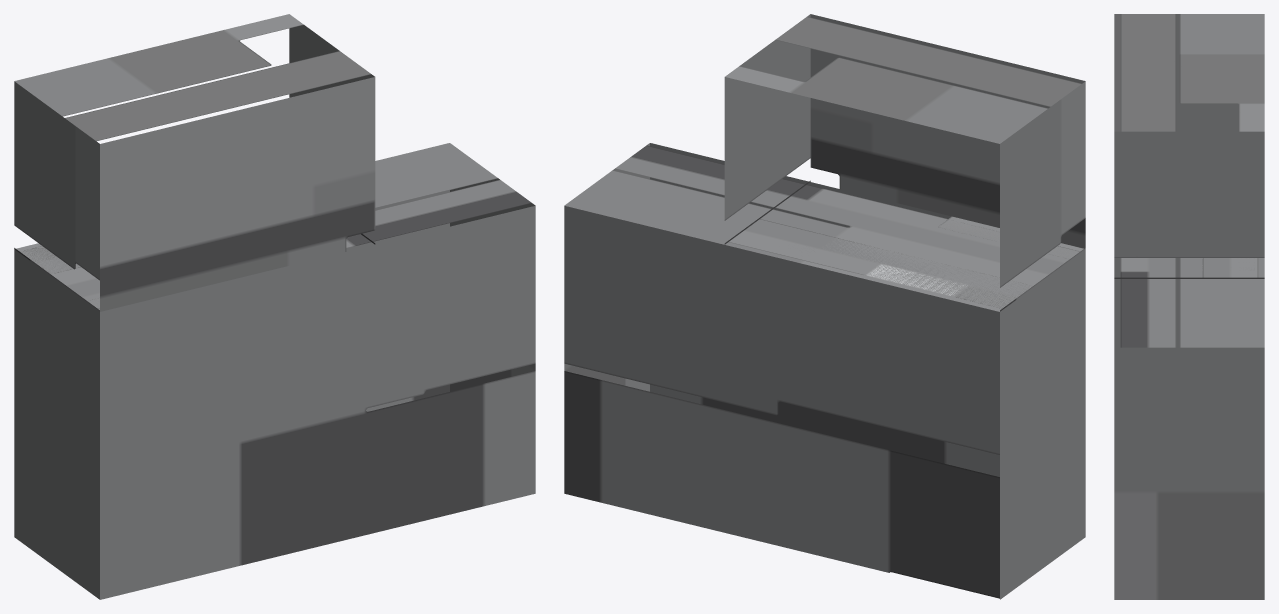
3 views of the same model, side by side, from view 1: azimuth 30°, elevation 25°; view 2: azimuth 150°, elevation 25°; view 3: azimuth 270°, elevation 25° (orthographic). The views are drawn at different scales.
Bounding box in the file's own units: 0.9215 × 0.9215 × 0.3146.
